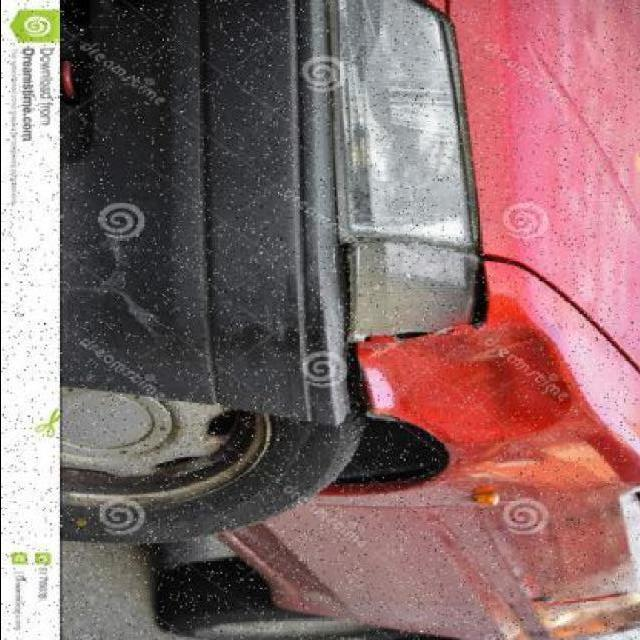fender-dent: (307, 254, 625, 507)
